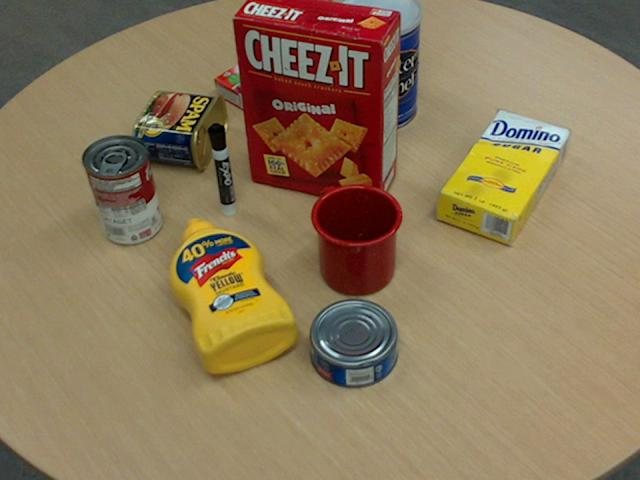cracker_box: (233, 0, 401, 204)
gelatin_box: (212, 53, 298, 118)
large_marker: (207, 123, 235, 217)
master_chef_can: (334, 0, 421, 132)
mug: (309, 183, 402, 294)
mustard_bottle: (167, 217, 297, 372)
potted_meat_can: (132, 89, 227, 168)
sugar_box: (436, 110, 569, 244)
tomato_soup_can: (81, 132, 160, 243)
tuna_fish_can: (309, 298, 398, 387)
